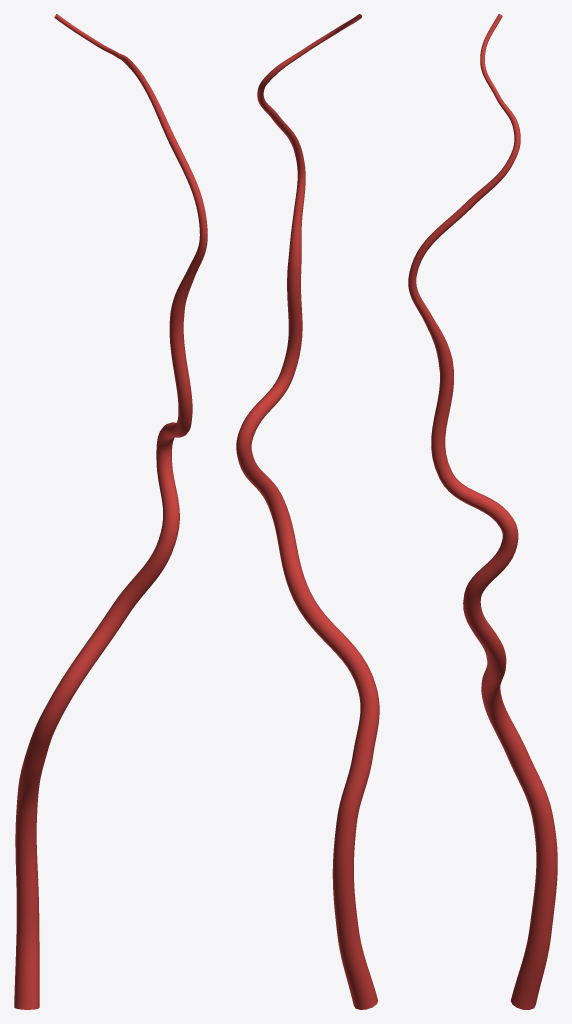
The picture shows the model from 3 angles, left to right: view 1: azimuth 30°, elevation 25°; view 2: azimuth 150°, elevation 25°; view 3: azimuth 270°, elevation 25°; orthographic projection. The views are drawn at different scales.
Visible parts, largest first — view 1: 右侧枕内侧动脉; view 2: 右侧枕内侧动脉; view 3: 右侧枕内侧动脉.
Boxes of the visible parts, x1,y1,x2,y2 form: 右侧枕内侧动脉: [14, 14, 207, 1009]; 右侧枕内侧动脉: [236, 14, 379, 1009]; 右侧枕内侧动脉: [408, 14, 557, 1009].
Bounding box in the file's own units: 0.0158 × 0.1015 × 0.0138.
